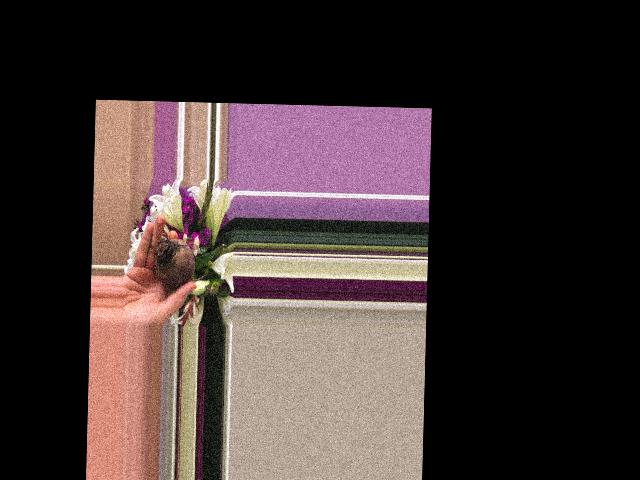beet: (153, 237, 207, 291)
